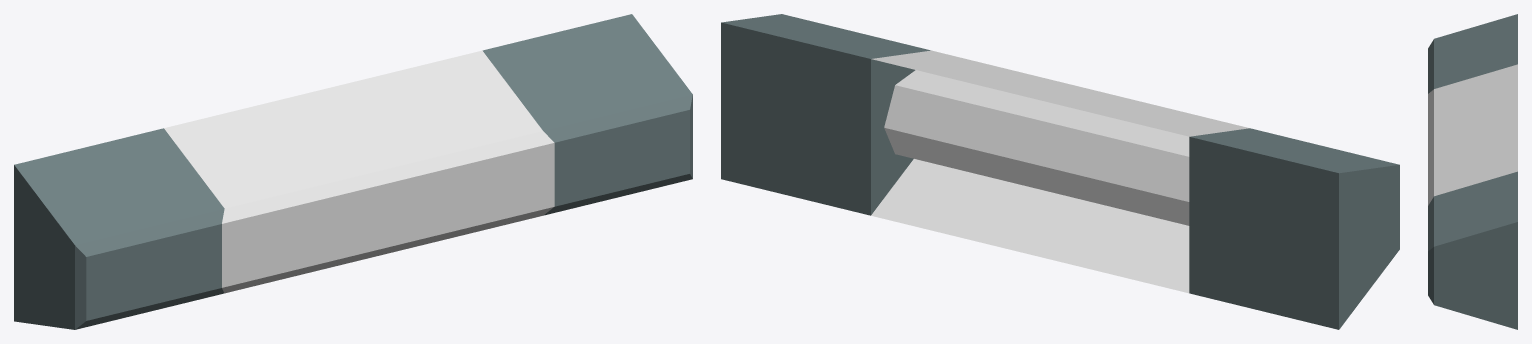
File: luz habitaciones.fbx
3 views of the same model, side by side, from view 1: azimuth 30°, elevation 25°; view 2: azimuth 150°, elevation 25°; view 3: azimuth 270°, elevation 25° (orthographic). The views are drawn at different scales.
Visible parts, largest first — view 1: Cube.007, Cube.008; view 2: Cube.007, Cube.008, Cylinder; view 3: Cube.007, Cube.008.
Part boxes in pixels (left/top/right/bottom): Cube.007: left=14, top=14, right=692, bottom=329; Cube.008: left=164, top=50, right=554, bottom=293; Cube.007: left=721, top=14, right=1399, bottom=329; Cube.008: left=871, top=50, right=1249, bottom=293; Cylinder: left=884, top=70, right=1189, bottom=225; Cube.007: left=1428, top=14, right=1517, bottom=329; Cube.008: left=1428, top=64, right=1517, bottom=205.
Size of the model in its own units: 380 by 92.07 by 69.3.
